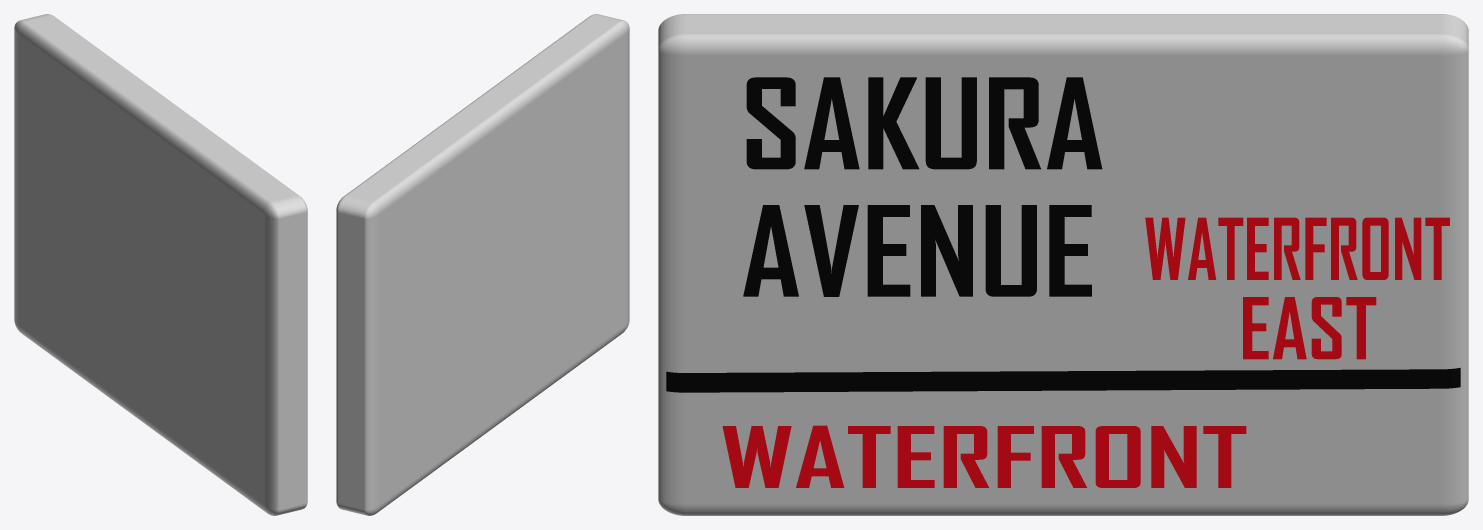
Rendered from uk_styled_street_sign_55.fbx.
3 views of the same model, side by side, from view 1: azimuth 30°, elevation 25°; view 2: azimuth 150°, elevation 25°; view 3: azimuth 270°, elevation 25° (orthographic). The views are drawn at different scales.
Parts seen in each view (by area): view 1: Cube; view 2: Cube; view 3: Cube, Text, Text.002, Text.001, Text.003, Text.004.
Boxes of the visible parts, left/top/right/bottom form: Cube: left=14, top=14, right=307, bottom=515; Cube: left=336, top=14, right=629, bottom=515; Cube: left=658, top=14, right=1468, bottom=515; Text: left=746, top=77, right=1102, bottom=169; Text.002: left=722, top=425, right=1246, bottom=487; Text.001: left=743, top=205, right=1091, bottom=296; Text.003: left=1145, top=217, right=1449, bottom=279; Text.004: left=1243, top=297, right=1376, bottom=359.
Bounding box in the file's own units: 1.63 × 11.91 × 18.18.
